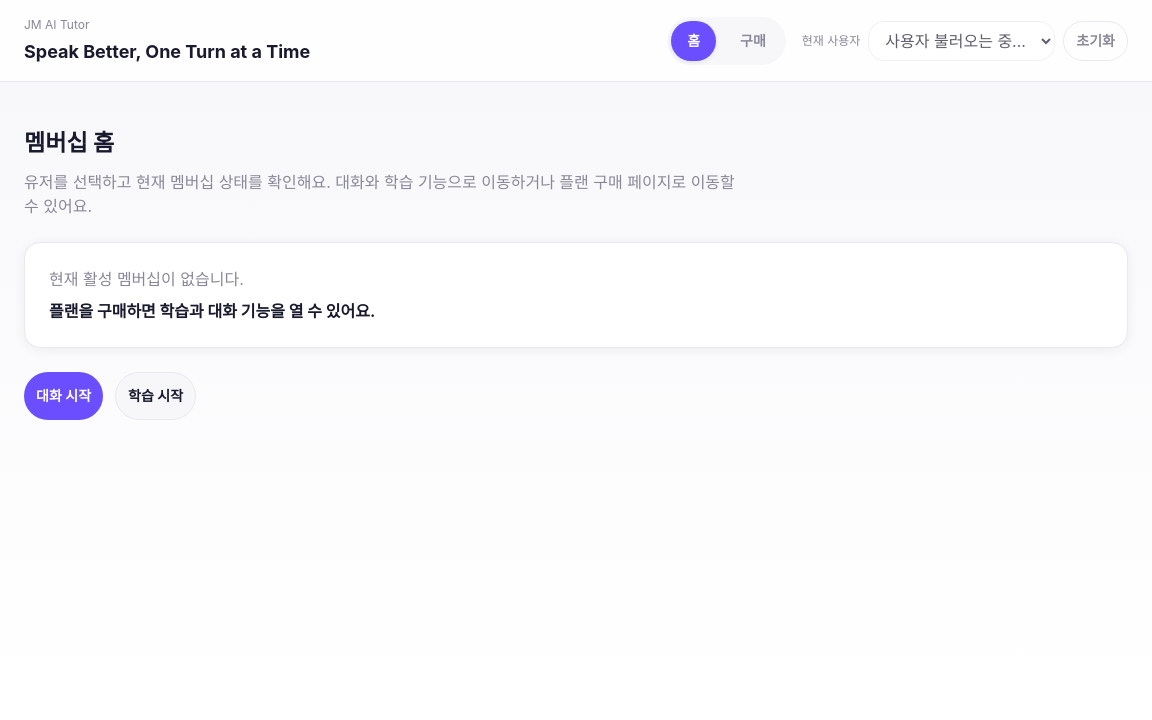
Scenario: HomePage › UpgradePromptModal '닫기' 클릭 시 모달이 닫혀요
What coordinates should you click on to do the following:
click the button "대화 시작"
I would click on:
 (64, 396)
Its box is top-left (24, 372), bottom-right (103, 420).
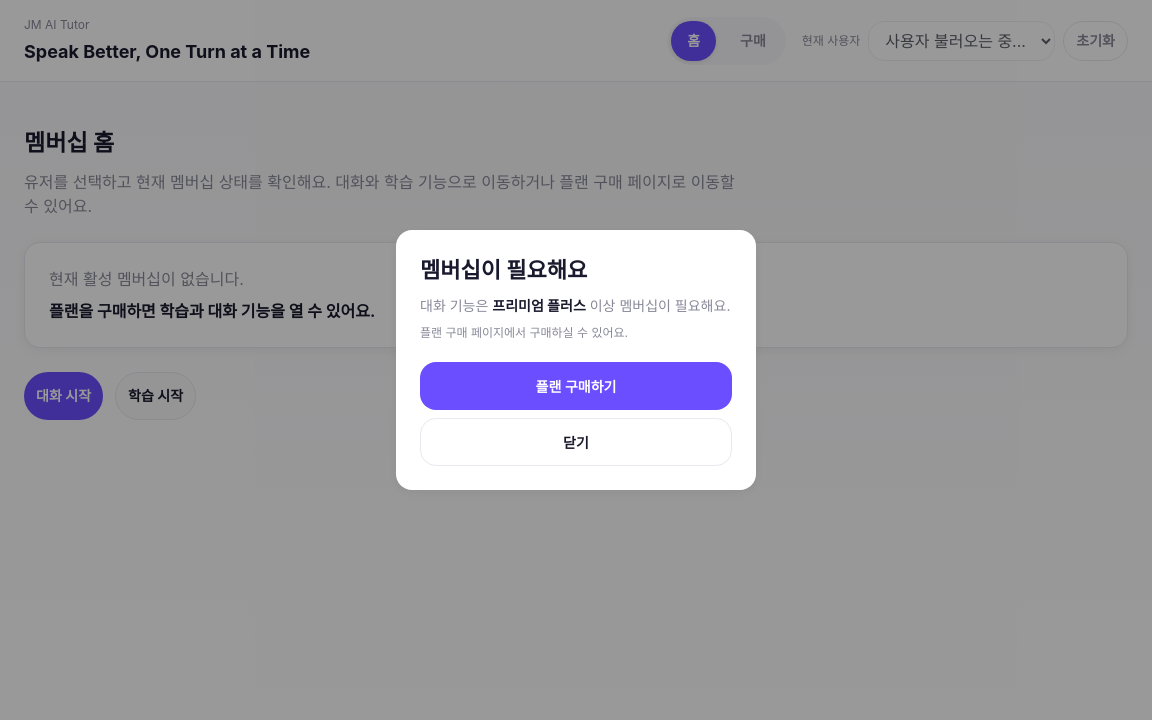
What coordinates should you click on to do the following:
click the button "닫기"
I would click on:
 (576, 442)
Its box is top-left (420, 418), bottom-right (732, 466).
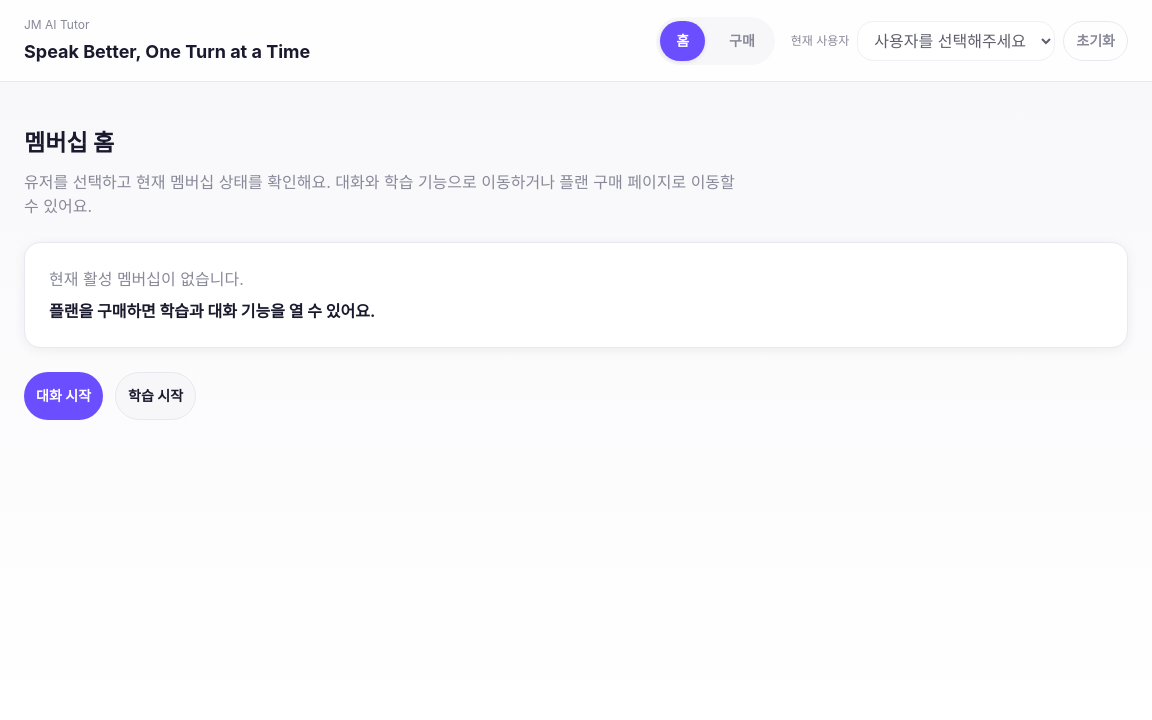
Expected: the heading "멤버십이 필요해요" is gone
